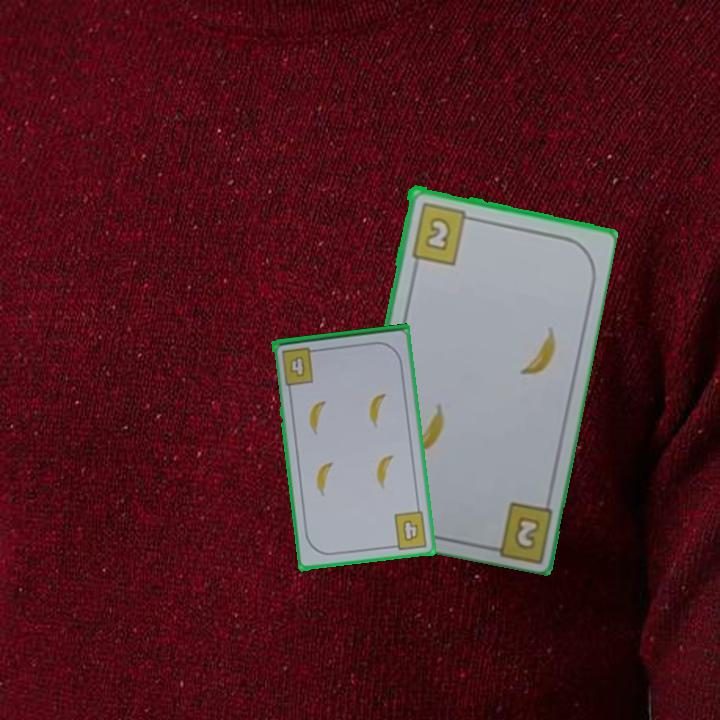2b: (408, 198, 477, 267), (513, 516, 540, 549)
4b: (387, 508, 430, 552), (288, 355, 306, 381)
